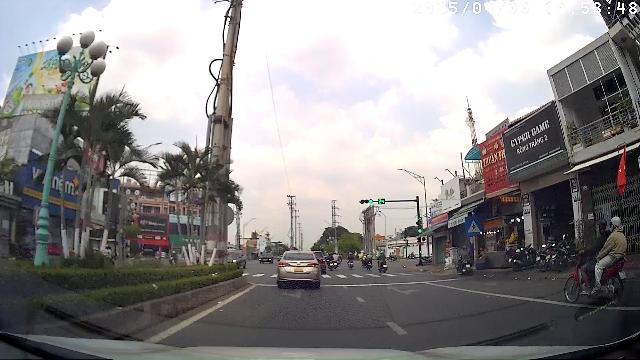423a-duong-nguoi-di-bo-sang-ngang-1: (465, 216, 482, 234)
